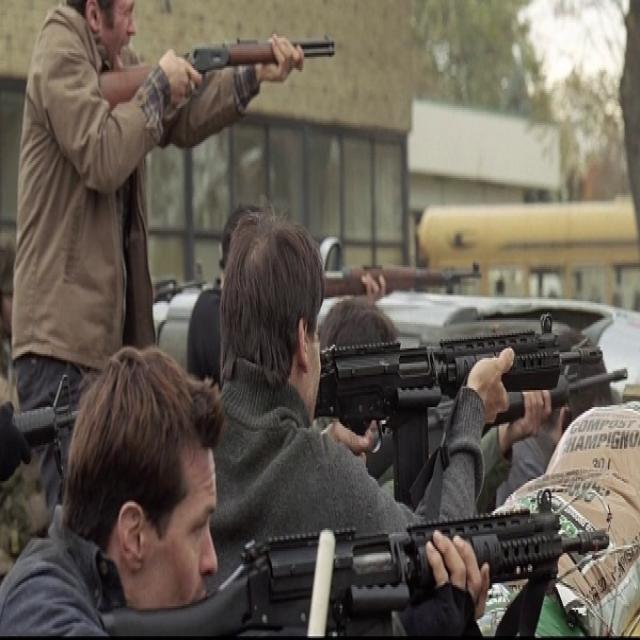rifle: (98, 504, 619, 640), (322, 310, 602, 509), (97, 30, 340, 124)
